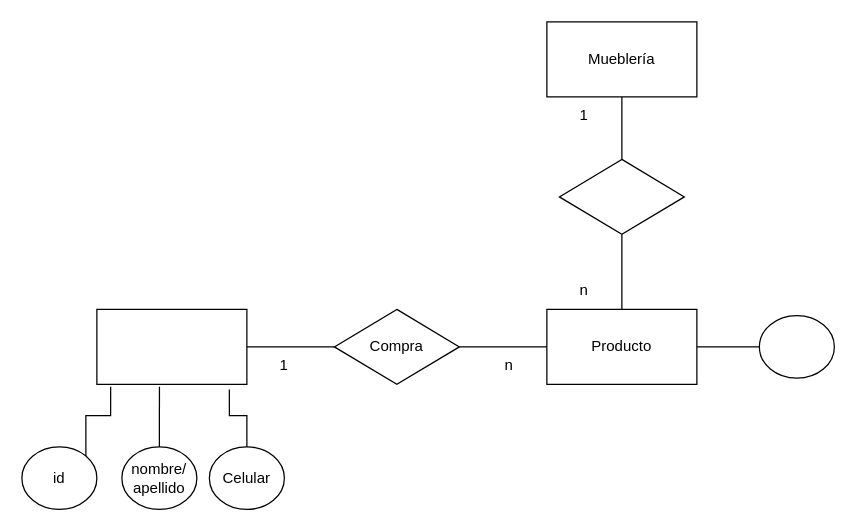
This 856x531 diagram has some shape labels left out. The shapes that lost their labels are listed below. From the top down, each one's box as (x1, y1, x2, y2) in pixels, then its label:
(558, 158, 684, 234): Vende
(96, 308, 247, 384): Cliente
(758, 314, 834, 378): Stock
